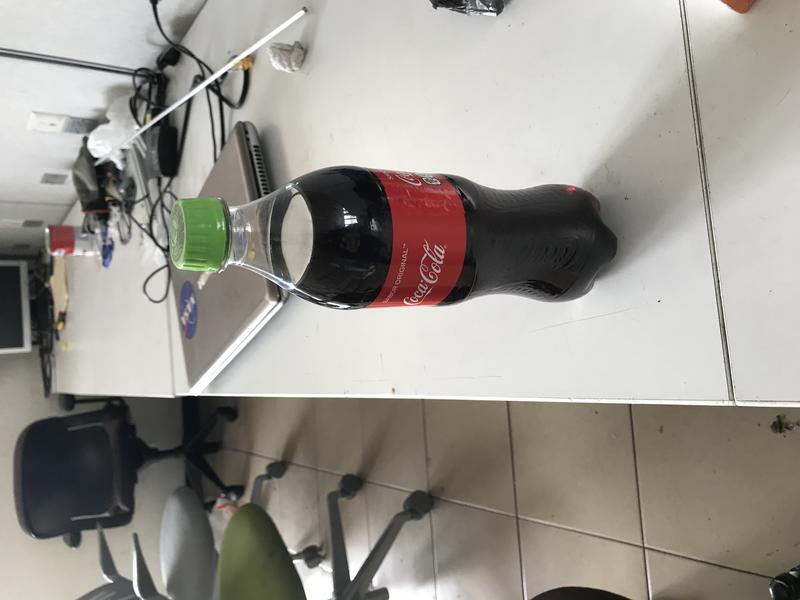coca_cola: (167, 166, 619, 310)
